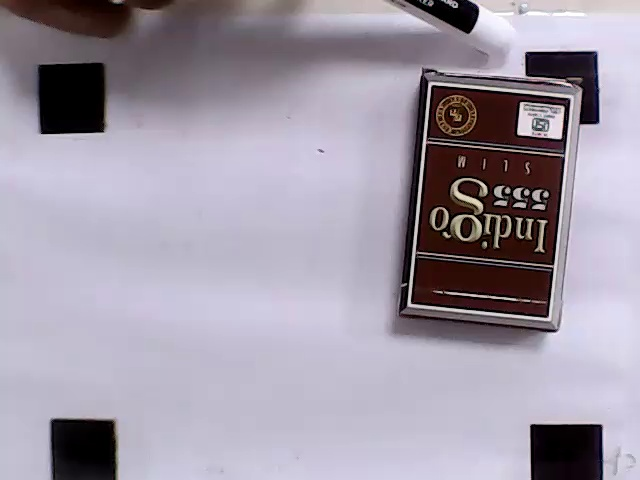BEX: (410, 84, 572, 319)
